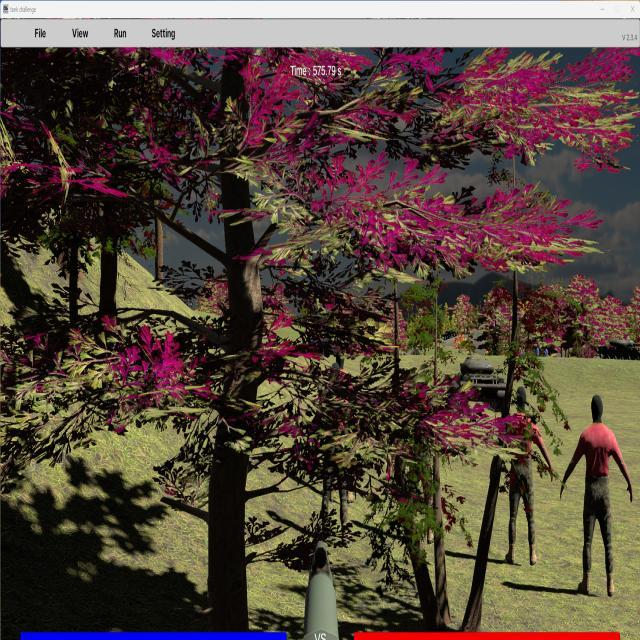Human: (560, 393, 634, 599), (503, 384, 555, 567)
Tank: (448, 354, 510, 416), (593, 338, 640, 361)
